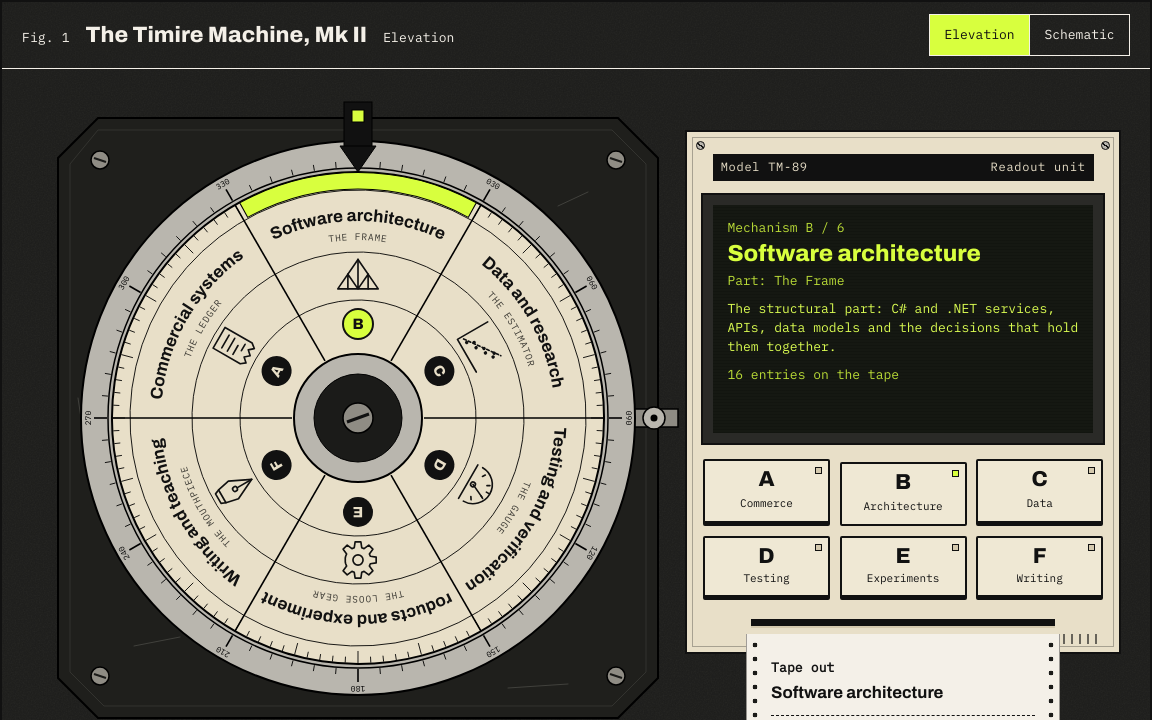
Test: Machine › switches between elevation and schematic and shows the part legend
The image size is (1152, 720).
Click the button "Schematic": {"x": 1079, "y": 35} [1029,15,1129,55]
(page scrolled)
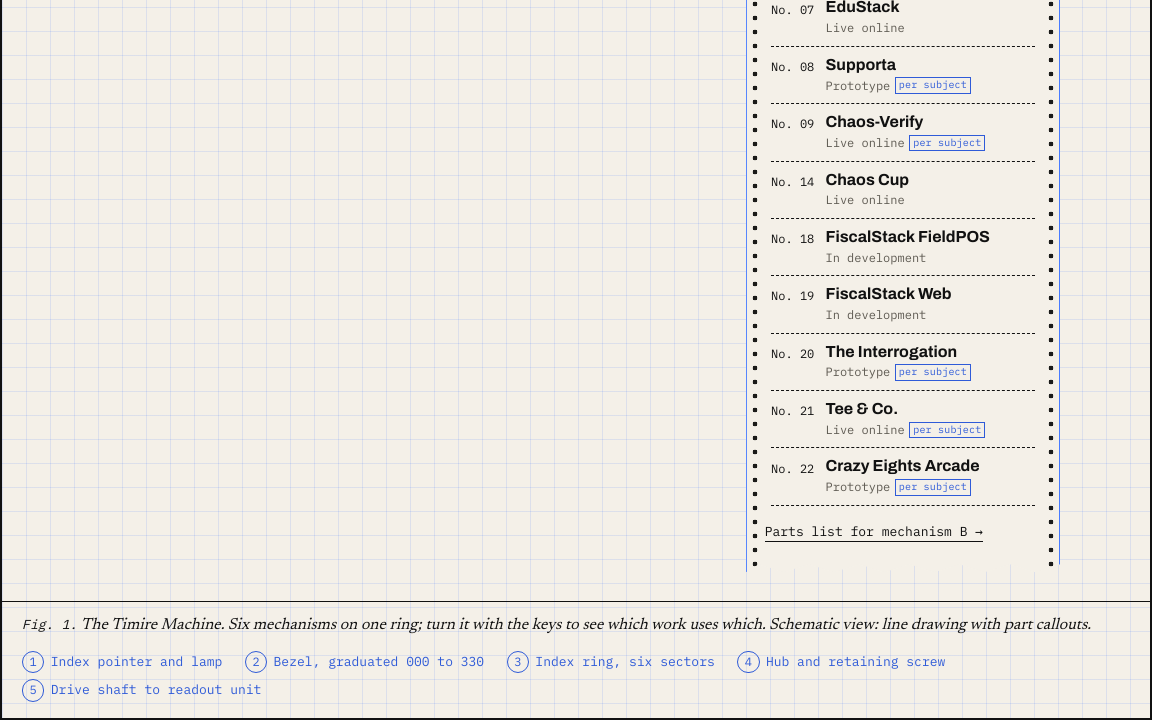
Now the list named "part callouts" is shown, box [22,651,945,702]
